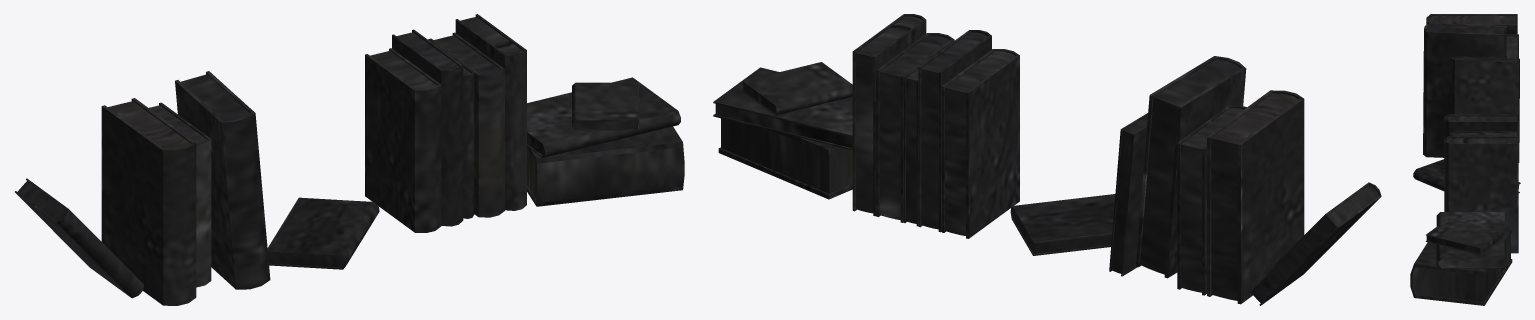
The model's file is SM_Books_01.fbx.
3 renders of one model, left to right at view 1: azimuth 30°, elevation 25°; view 2: azimuth 150°, elevation 25°; view 3: azimuth 270°, elevation 25°, orthographic. The views are drawn at different scales.
Parts seen in each view (by area): view 1: SM_Books_01; view 2: SM_Books_01; view 3: SM_Books_01.
Boxes of the visible parts, x1=… form: SM_Books_01: x1=15, y1=14, x2=684, y2=305; SM_Books_01: x1=713, y1=14, x2=1381, y2=305; SM_Books_01: x1=1410, y1=14, x2=1520, y2=305.
Bounding box in the file's own units: 126 × 27.41 × 33.52.
1 material, 1 textured.
